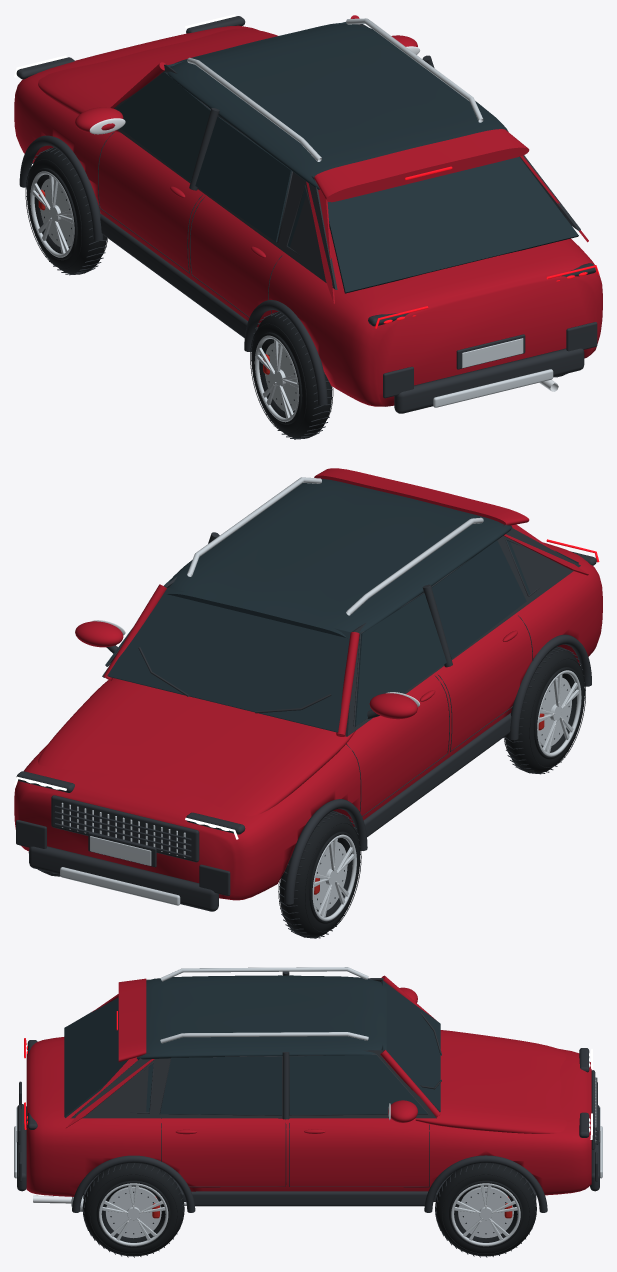
File: inspection-suv.glb
3 renders of one model, top to bottom at view 1: azimuth 30°, elevation 25°; view 2: azimuth 150°, elevation 25°; view 3: azimuth 270°, elevation 25°, orthographic. The views are drawn at different scales.
Parts seen in each view (by area): view 1: Techo panorámico.001, Luneta trasera.001, Portón trasero.001, Aleta trasera izquierdo.001, Puerta delantera · lado izquierdo.001, Puerta trasera · lado izquierdo.001, Alerón trasero.001, Cristal trasero izquierdo.001, Capó.001, Cristal delantero izquierdo.001, Guardabarros delantero izquierdo.003, Marco integral de ventanillas izquierdo.001 (+25 smaller); view 2: Techo panorámico.001, Capó.001, Parabrisas.001, Parachoques delantero.001, Guardabarros delantero izquierdo.003, Puerta delantera · lado izquierdo.001, Puerta trasera · lado izquierdo.001, Cristal delantero izquierdo.001, Cristal trasero izquierdo.001, Aleta trasera izquierdo.001, Neumático delantero izquierdo.001, Difusor delantera.001 (+28 smaller); view 3: Techo panorámico.001, Capó.001, Puerta delantera · lado derecho.001, Puerta trasera · lado derecho.001, Aleta trasera derecho.001, Guardabarros delantero derecho.003, Cristal trasero derecho.001, Cristal delantero derecho.001, Luneta trasera.001, Marco integral de ventanillas derecho.001, Parabrisas.001, Neumático trasero derecho.001 (+23 smaller).
Part boxes in pixels (bbox=[...]): Techo panorámico.001: bbox=[167, 23, 508, 189]; Luneta trasera.001: bbox=[327, 157, 578, 293]; Portón trasero.001: bbox=[331, 244, 595, 406]; Aleta trasera izquierdo.001: bbox=[269, 254, 402, 406]; Puerta delantera · lado izquierdo.001: bbox=[98, 131, 203, 278]; Puerta trasera · lado izquierdo.001: bbox=[188, 193, 285, 320]; Alerón trasero.001: bbox=[314, 129, 529, 202]; Cristal trasero izquierdo.001: bbox=[195, 116, 291, 242]; Capó.001: bbox=[38, 28, 277, 132]; Cristal delantero izquierdo.001: bbox=[115, 72, 210, 181]; Guardabarros delantero izquierdo.003: bbox=[14, 68, 113, 213]; Marco integral de ventanillas izquierdo.001: bbox=[114, 64, 337, 289]; Techo panorámico.001: bbox=[167, 478, 512, 637]; Capó.001: bbox=[38, 678, 355, 816]; Parabrisas.001: bbox=[107, 587, 350, 732]; Parachoques delantero.001: bbox=[19, 768, 354, 898]; Guardabarros delantero izquierdo.003: bbox=[212, 745, 359, 900]; Puerta delantera · lado izquierdo.001: bbox=[345, 674, 448, 820]; Puerta trasera · lado izquierdo.001: bbox=[433, 612, 533, 759]; Cristal delantero izquierdo.001: bbox=[354, 593, 446, 726]; Cristal trasero izquierdo.001: bbox=[431, 540, 526, 658]; Aleta trasera izquierdo.001: bbox=[517, 549, 602, 664]; Neumático delantero izquierdo.001: bbox=[279, 811, 360, 937]; Difusor delantera.001: bbox=[29, 846, 218, 911]; Techo panorámico.001: bbox=[136, 975, 386, 1059]; Capó.001: bbox=[415, 1030, 567, 1133]; Puerta delantera · lado derecho.001: bbox=[290, 1118, 430, 1191]; Puerta trasera · lado derecho.001: bbox=[159, 1118, 289, 1191]; Aleta trasera derecho.001: bbox=[26, 1108, 159, 1196]; Guardabarros delantero derecho.003: bbox=[430, 1121, 591, 1195]; Cristal trasero derecho.001: bbox=[160, 1056, 281, 1115]; Cristal delantero derecho.001: bbox=[289, 1055, 427, 1114]; Luneta trasera.001: bbox=[64, 997, 128, 1117]; Marco integral de ventanillas derecho.001: bbox=[71, 1050, 436, 1118]; Parabrisas.001: bbox=[381, 980, 440, 1111]; Neumático trasero derecho.001: bbox=[82, 1163, 184, 1256].
Bounding box in the file's own units: 2.44 × 1.82 × 4.68.
